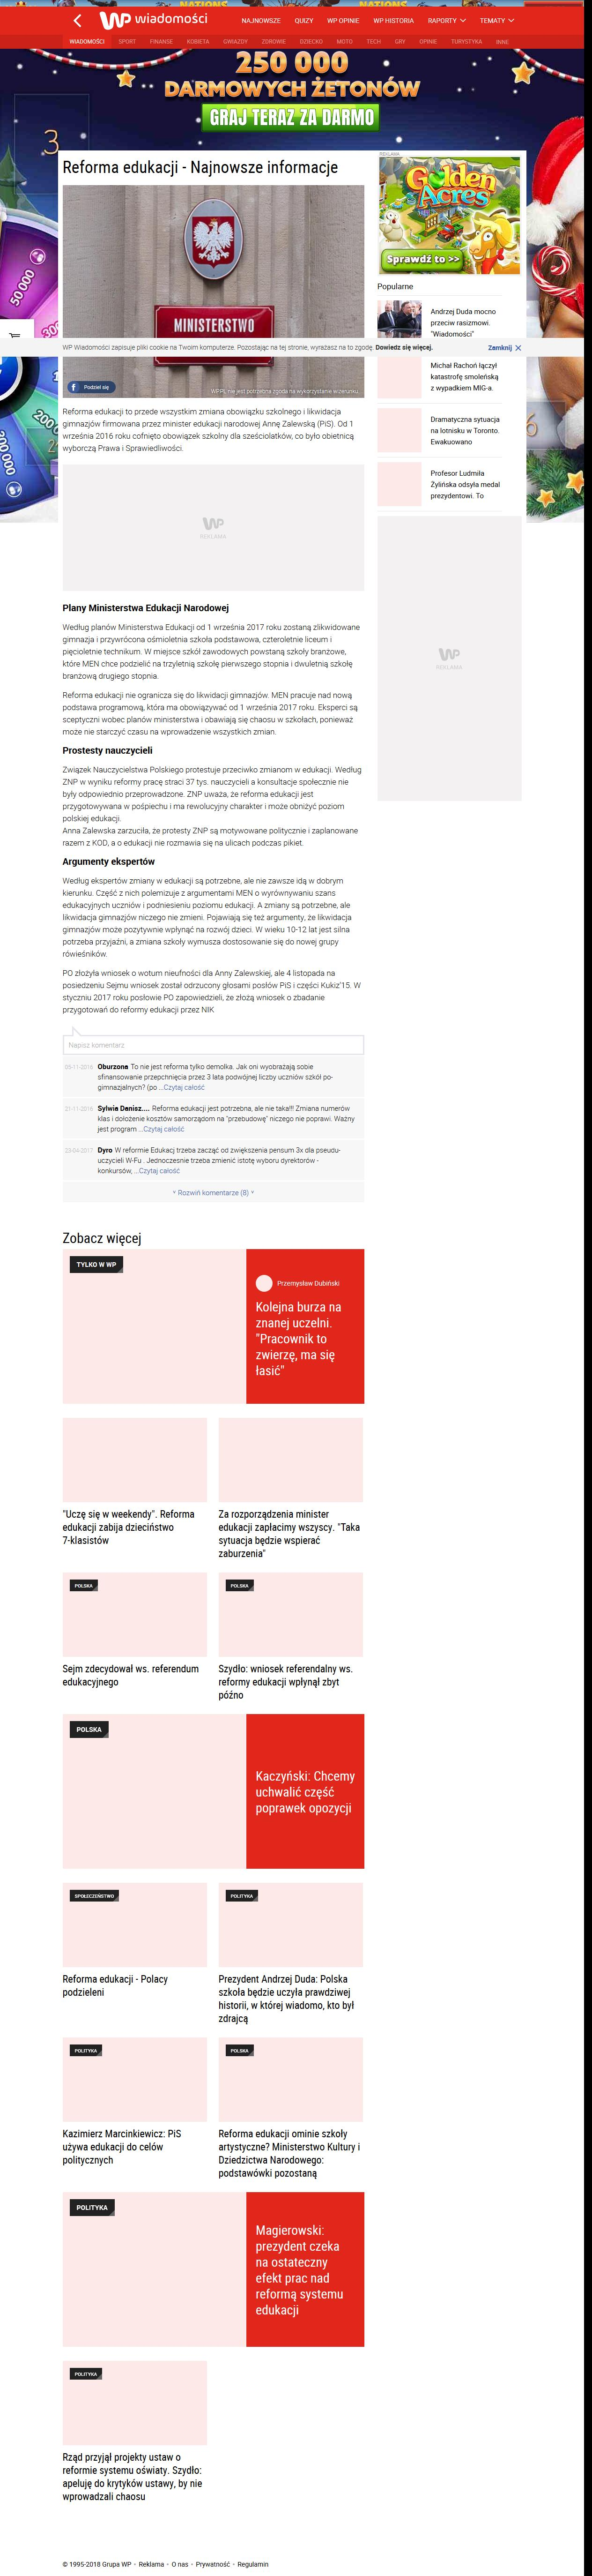title: (62, 158, 341, 177)
